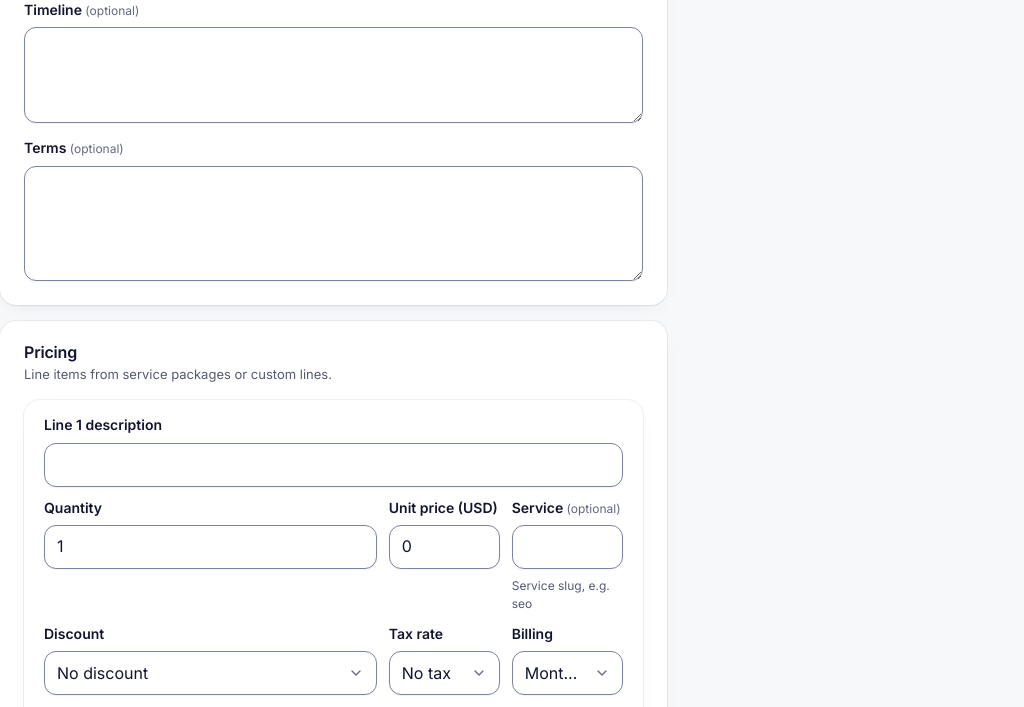
Scenario: Proposal builder › explains server validation errors from the preview
This screenshot has width=1024, height=707.
(page scrolled)
Type "Bad line" into the field labelled "Line 1 description" at (333, 464), box [44,442,623,486]
(page scrolled)
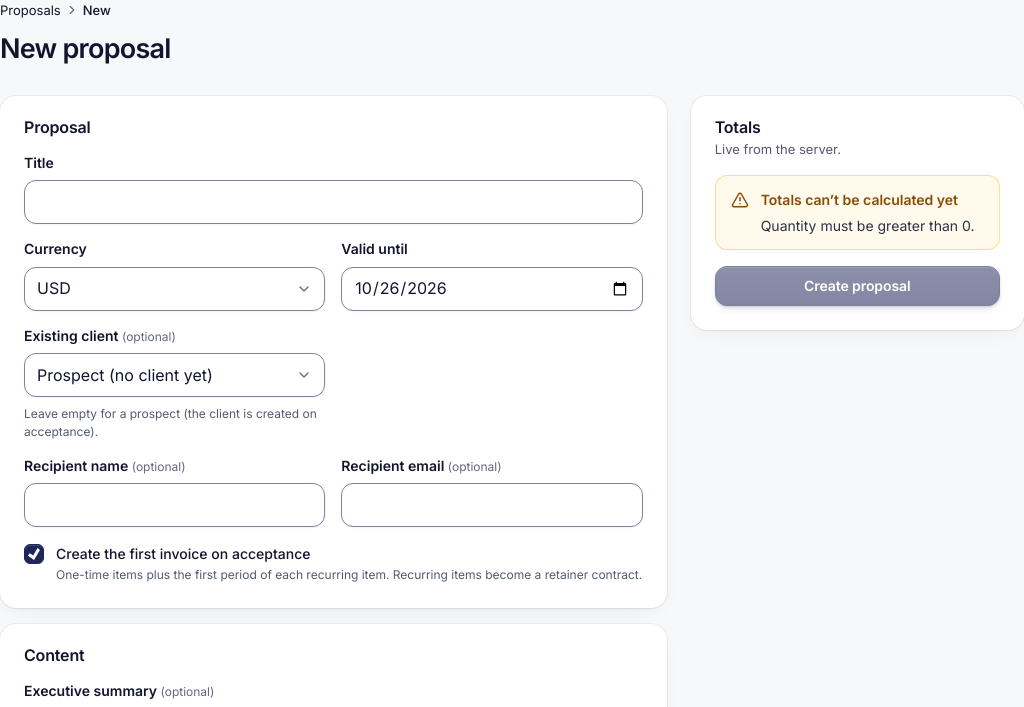
Check: the text "Quantity must be greater than 0." is shown, box [761,215,984,236]
